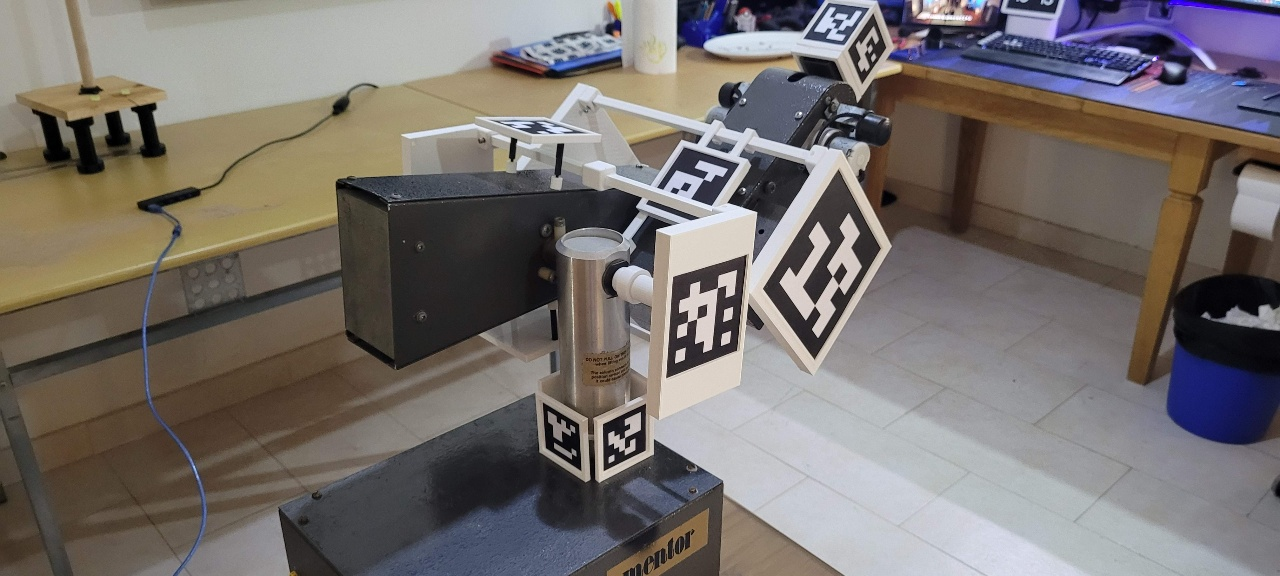Robot: (334, 1, 897, 483)
